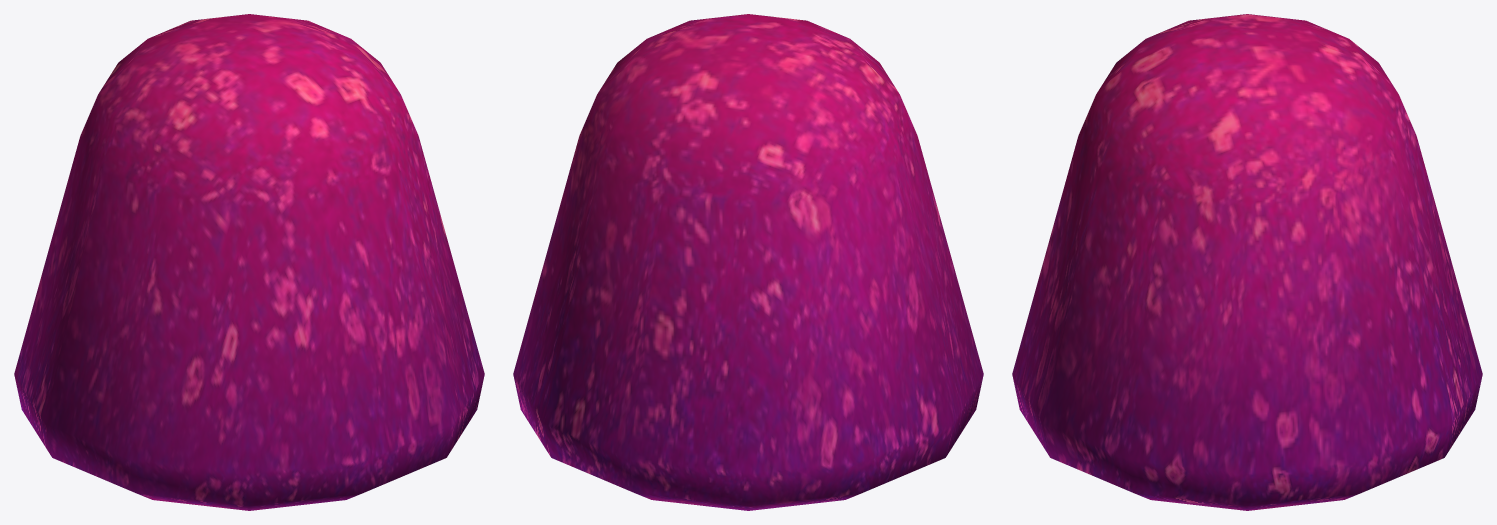
Rendered from CHP_MOD_Marmalade_pink.fbx.
3 renders of one model, left to right at view 1: azimuth 30°, elevation 25°; view 2: azimuth 150°, elevation 25°; view 3: azimuth 270°, elevation 25°, orthographic.
Parts seen in each view (by area): view 1: CHP_MOD_Marmalade_pink; view 2: CHP_MOD_Marmalade_pink; view 3: CHP_MOD_Marmalade_pink.
Part boxes in pixels (bbox=[...]): CHP_MOD_Marmalade_pink: bbox=[14, 14, 484, 510]; CHP_MOD_Marmalade_pink: bbox=[513, 14, 983, 510]; CHP_MOD_Marmalade_pink: bbox=[1012, 14, 1482, 510].
Size of the model in its own units: 0.5048 by 0.4654 by 0.5048.
